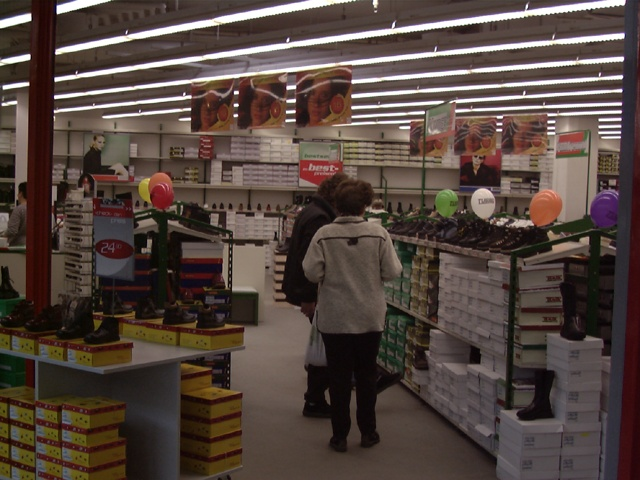person: (307, 178, 397, 449)
